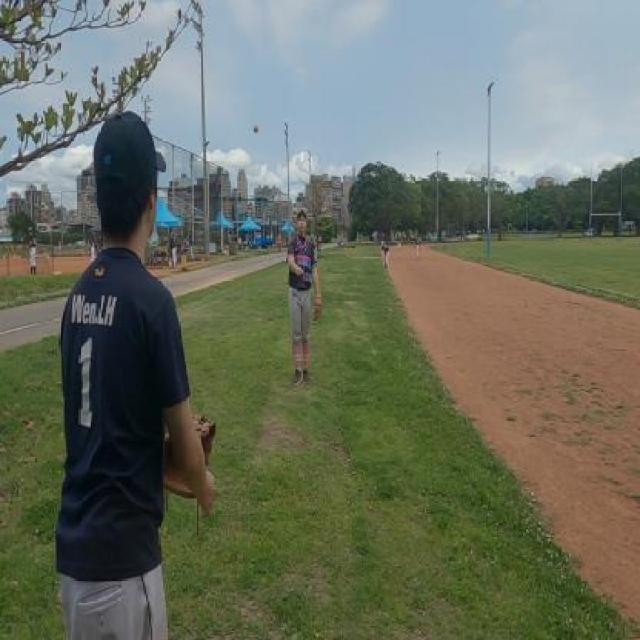baseball: (253, 123, 259, 134)
